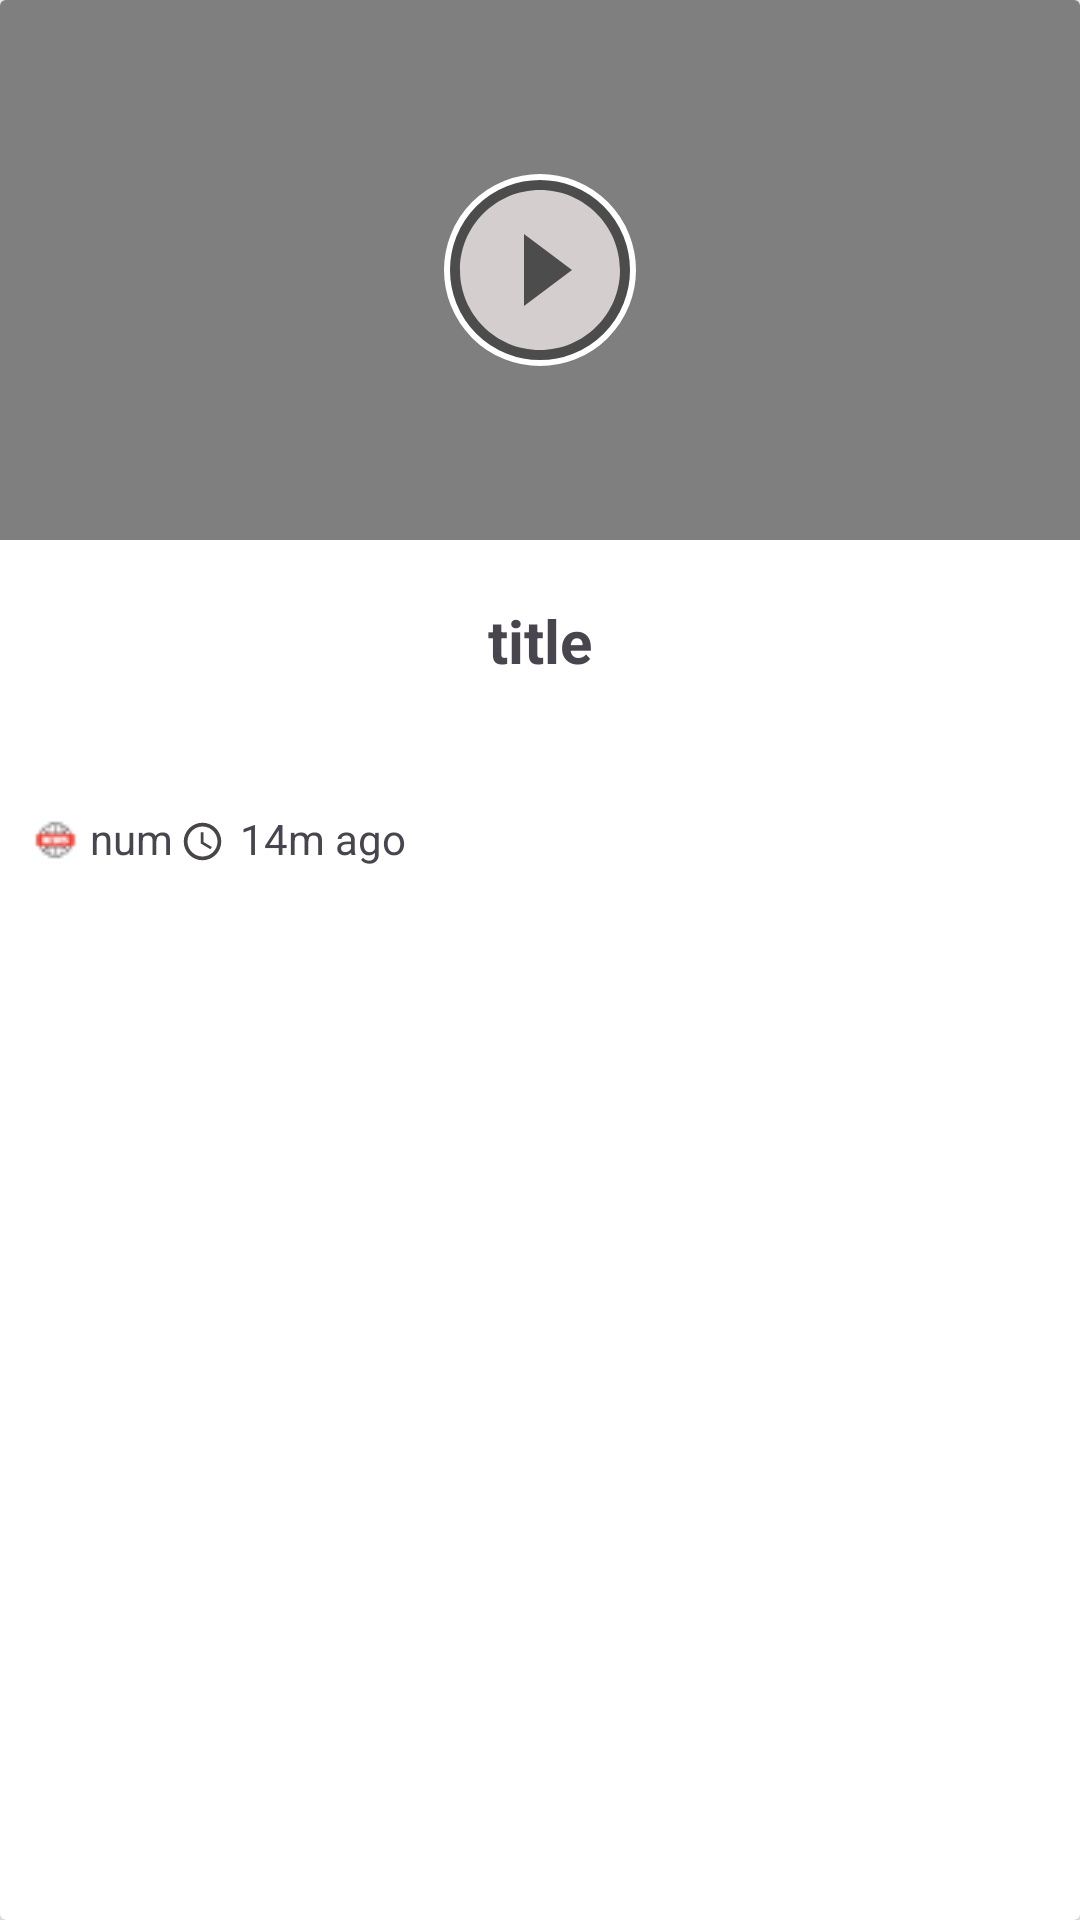

Icon click points for this 1080w x 1920h phone screenshot, format point (x, y):
access time: point (202, 841)
play circle: point (540, 270)
